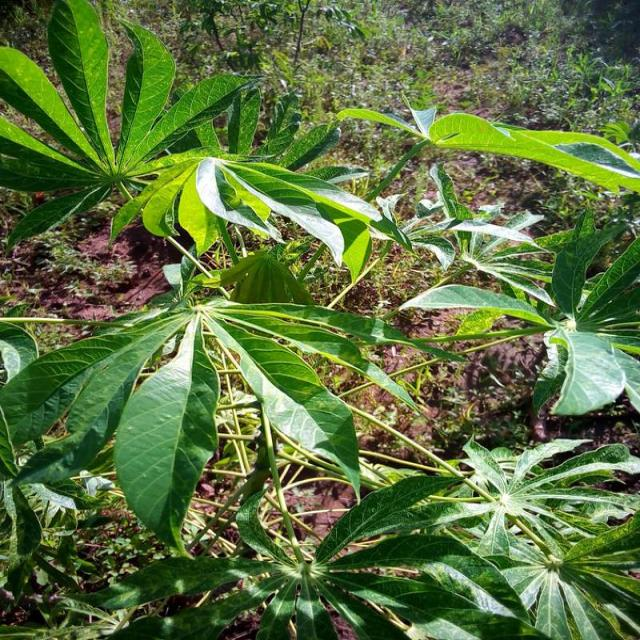cassava leaf: (114, 310, 222, 556)
